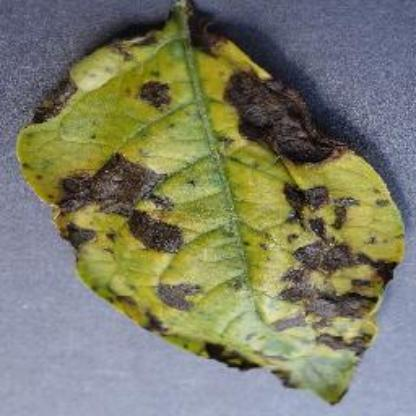Early-Blight: (15, 1, 407, 404)
